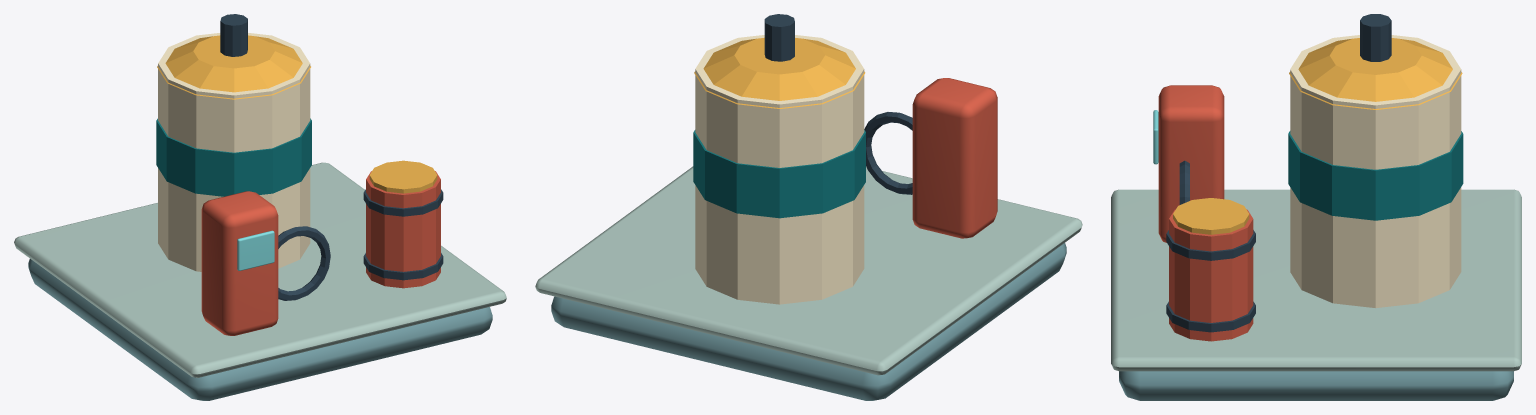
Rendered from Fuel_T1.fbx.
3 views of the same model, side by side, from view 1: azimuth 30°, elevation 25°; view 2: azimuth 150°, elevation 25°; view 3: azimuth 270°, elevation 25° (orthographic). The views are drawn at different scales.
Visible parts, largest first — view 1: Fuel_T1_Static; view 2: Fuel_T1_Static; view 3: Fuel_T1_Static.
Part boxes in pixels (bbox=[...]): Fuel_T1_Static: bbox=[14, 14, 506, 400]; Fuel_T1_Static: bbox=[535, 14, 1082, 400]; Fuel_T1_Static: bbox=[1111, 14, 1521, 400].
Size of the model in its own units: 3.12 by 2.56 by 3.12.
Materials: 1 (1 with a texture image).
